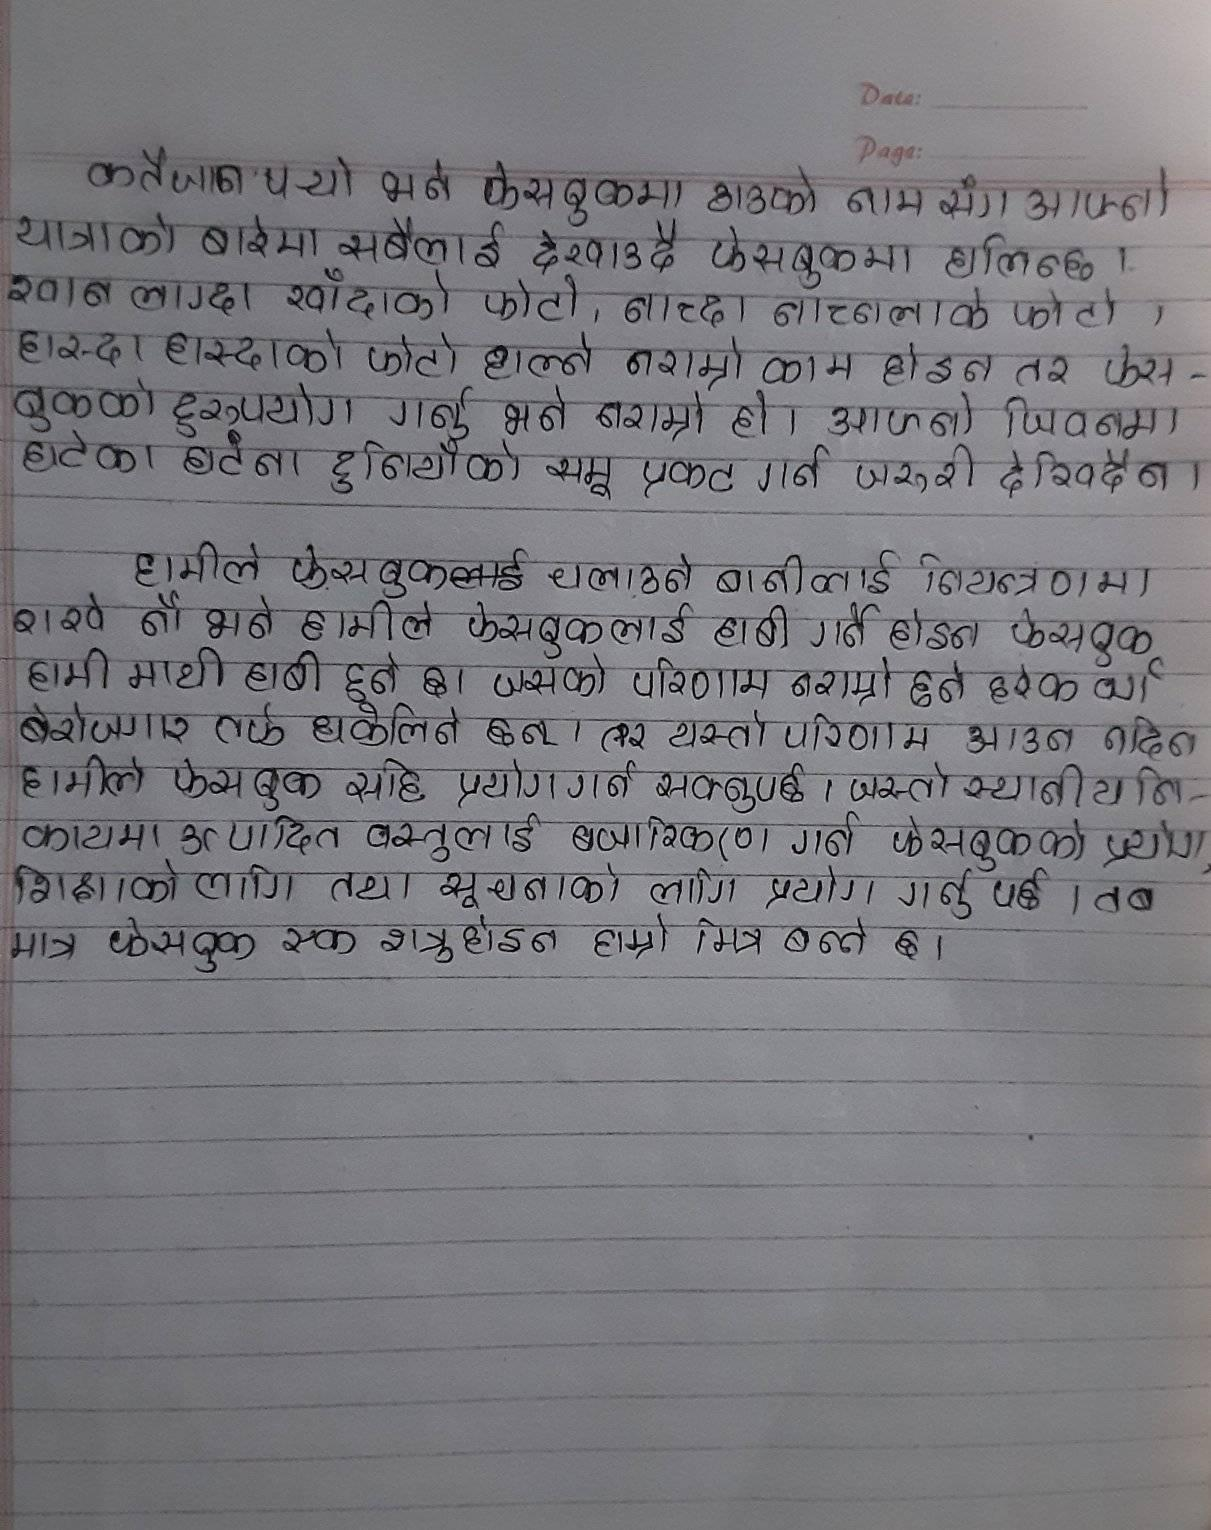text: (707, 221, 918, 291), (465, 596, 696, 659), (477, 159, 689, 224), (905, 549, 1158, 601), (887, 812, 1091, 873), (320, 437, 525, 496), (765, 284, 992, 337), (992, 445, 1175, 504), (173, 382, 360, 440), (284, 536, 452, 599), (529, 214, 679, 279), (1002, 601, 1151, 667), (337, 217, 513, 272), (433, 861, 622, 912), (378, 914, 566, 965), (101, 914, 258, 975), (159, 328, 347, 379), (710, 550, 898, 601), (996, 394, 1182, 445), (938, 229, 1102, 286), (83, 147, 250, 202), (163, 753, 322, 811), (652, 758, 814, 815), (1025, 164, 1174, 225), (282, 269, 455, 322), (364, 811, 543, 859), (624, 653, 774, 710), (12, 861, 180, 912), (178, 810, 349, 858), (16, 700, 191, 748), (179, 426, 304, 491), (11, 211, 178, 260), (10, 381, 164, 433), (823, 387, 977, 438), (309, 699, 466, 748), (125, 536, 271, 587), (851, 440, 980, 497), (566, 813, 714, 863), (21, 428, 161, 481), (547, 551, 701, 599), (780, 710, 937, 756), (590, 387, 708, 445), (960, 763, 1091, 813), (20, 753, 149, 803), (705, 166, 820, 224), (301, 597, 438, 645), (622, 337, 746, 389), (455, 754, 564, 812), (10, 327, 149, 371), (614, 288, 751, 333), (197, 214, 323, 262), (17, 815, 165, 856), (493, 650, 609, 702), (125, 642, 230, 699), (481, 332, 597, 382), (1100, 816, 1209, 871), (1010, 282, 1120, 335), (129, 273, 255, 319), (761, 863, 879, 912), (874, 342, 997, 387), (785, 661, 897, 710), (632, 451, 742, 500), (388, 384, 479, 442), (189, 861, 298, 909), (482, 274, 583, 325), (887, 606, 985, 658), (982, 659, 1081, 712), (260, 152, 359, 202), (26, 645, 118, 698), (363, 329, 463, 378), (663, 710, 775, 754), (1091, 761, 1187, 811), (12, 592, 114, 640), (846, 764, 953, 808), (896, 867, 982, 921), (587, 909, 674, 964), (4, 271, 120, 310), (1100, 715, 1200, 761), (960, 720, 1081, 758), (238, 648, 324, 700), (709, 604, 795, 654), (207, 702, 293, 753), (498, 382, 573, 441), (345, 756, 425, 811), (648, 867, 743, 912), (782, 915, 872, 962), (787, 810, 862, 866), (542, 450, 620, 502), (841, 178, 929, 224), (327, 866, 420, 909), (1102, 340, 1177, 394), (202, 592, 279, 645), (376, 160, 457, 210), (760, 349, 857, 390), (684, 914, 766, 962), (937, 173, 1014, 224), (986, 861, 1056, 917), (753, 446, 828, 497), (805, 601, 879, 650), (1089, 874, 1158, 926), (479, 712, 563, 754), (277, 921, 360, 964), (568, 756, 637, 806), (905, 657, 968, 712), (1092, 662, 1163, 709), (339, 646, 400, 700), (4, 926, 83, 966), (1010, 351, 1081, 392), (137, 587, 189, 637), (728, 395, 773, 448), (597, 713, 650, 753), (889, 921, 927, 969), (732, 820, 775, 858), (421, 659, 450, 704)
